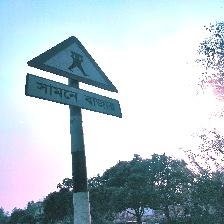Market-in-front: (25, 35, 122, 119)
